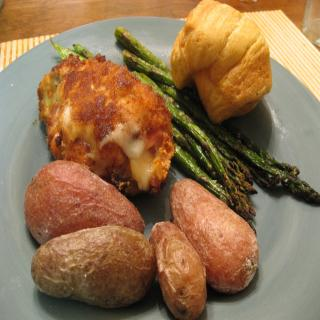Potato: (168, 178, 260, 294), (31, 224, 158, 308), (24, 161, 145, 247), (148, 221, 208, 320)
